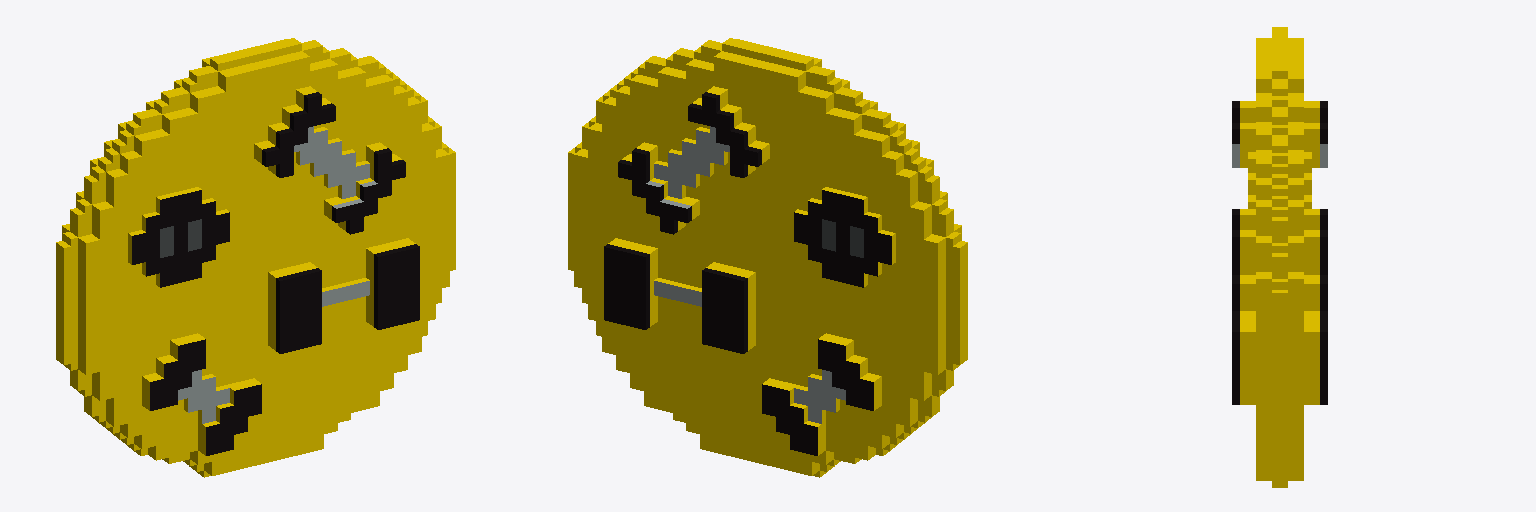
3 renders of one model, left to right at view 1: azimuth 30°, elevation 25°; view 2: azimuth 150°, elevation 25°; view 3: azimuth 270°, elevation 25°, orthographic.
Size of the model in its own units: 28 by 28 by 6.
Materials: 1 (1 with a texture image).